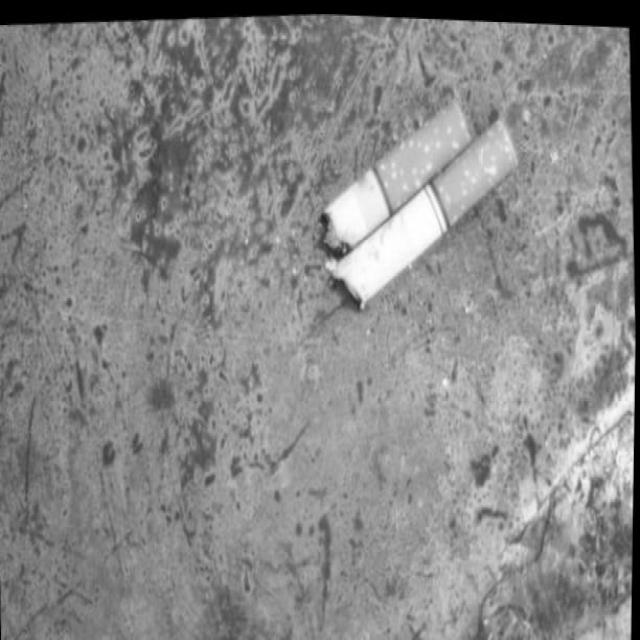cigarette: (314, 84, 529, 314)
